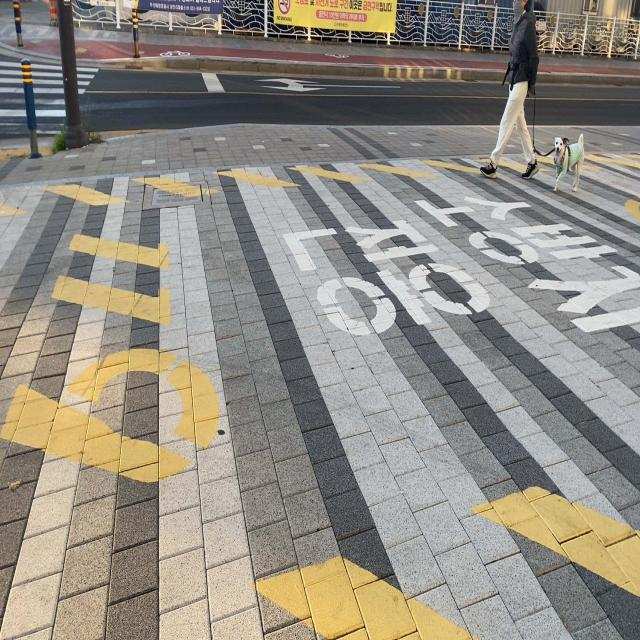Leashed_Dog: (509, 86, 584, 194)
